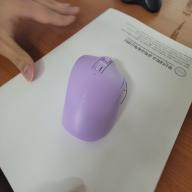mouse: (60, 51, 126, 142)
